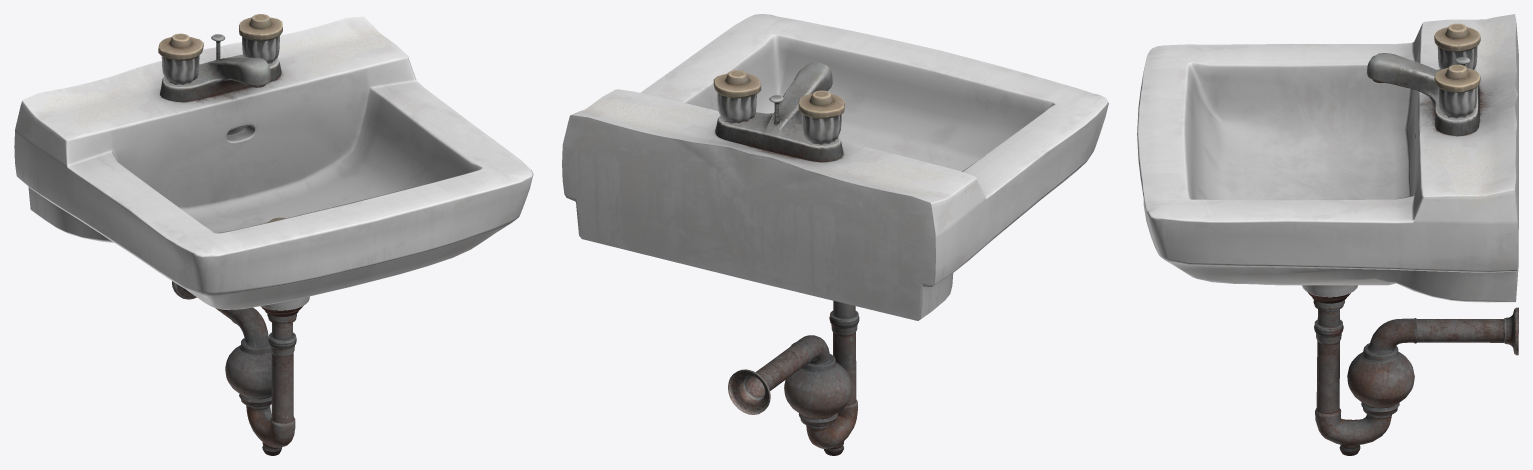
File: Sink.fbx
The picture shows the model from 3 angles, left to right: view 1: azimuth 30°, elevation 25°; view 2: azimuth 150°, elevation 25°; view 3: azimuth 270°, elevation 25°; orthographic projection. The views are drawn at different scales.
Parts seen in each view (by area): view 1: Sink; view 2: Sink; view 3: Sink.
Part boxes in pixels (x1,y1,x2,y2): Sink: (14, 14, 533, 455); Sink: (562, 14, 1108, 455); Sink: (1137, 14, 1518, 455).
Bounding box in the file's own units: 49.65 × 51.74 × 44.12.
